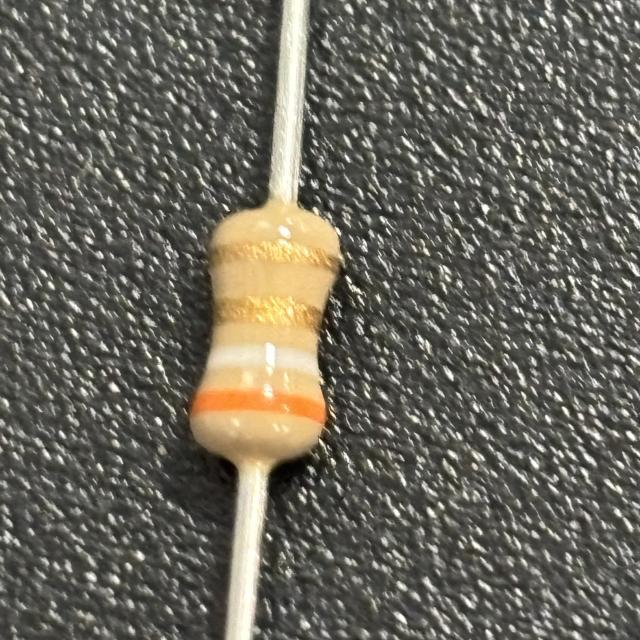resistor: (181, 203, 348, 471)
